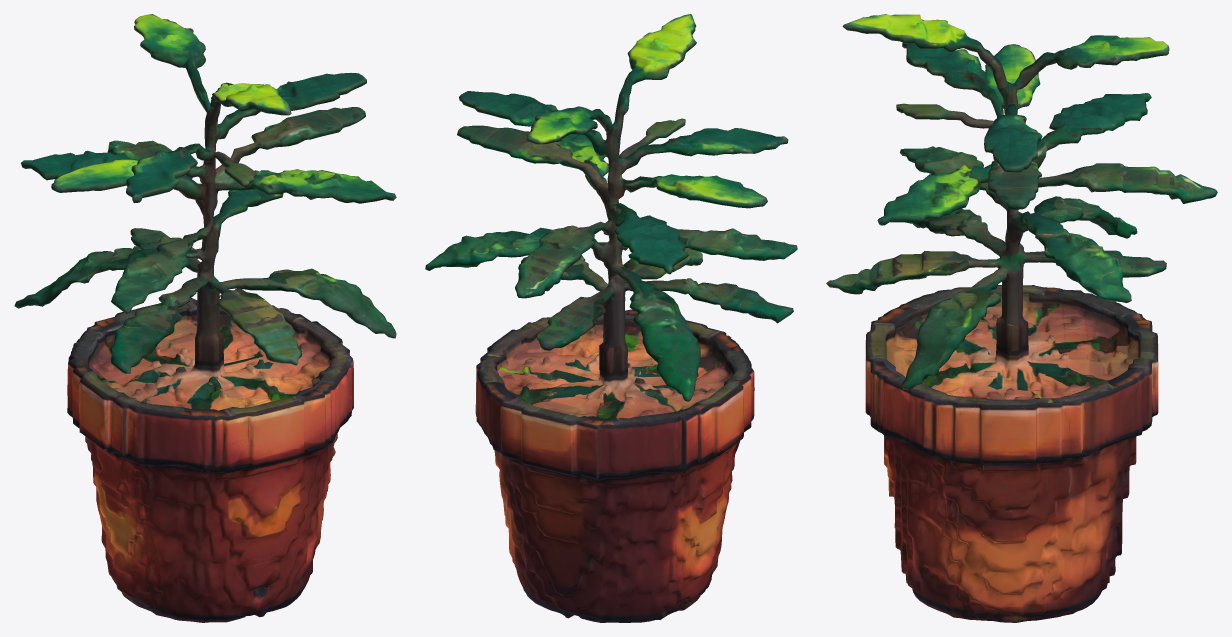
The model's file is plants.glb.
The picture shows the model from 3 angles, left to right: view 1: azimuth 30°, elevation 25°; view 2: azimuth 150°, elevation 25°; view 3: azimuth 270°, elevation 25°; orthographic projection. The views are drawn at different scales.
Size of the model in its own units: 1.24 by 2.01 by 1.28.
Materials: 1 (1 with a texture image).
